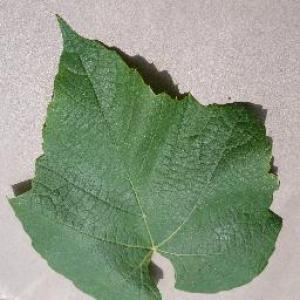Folha: (7, 12, 282, 299)
